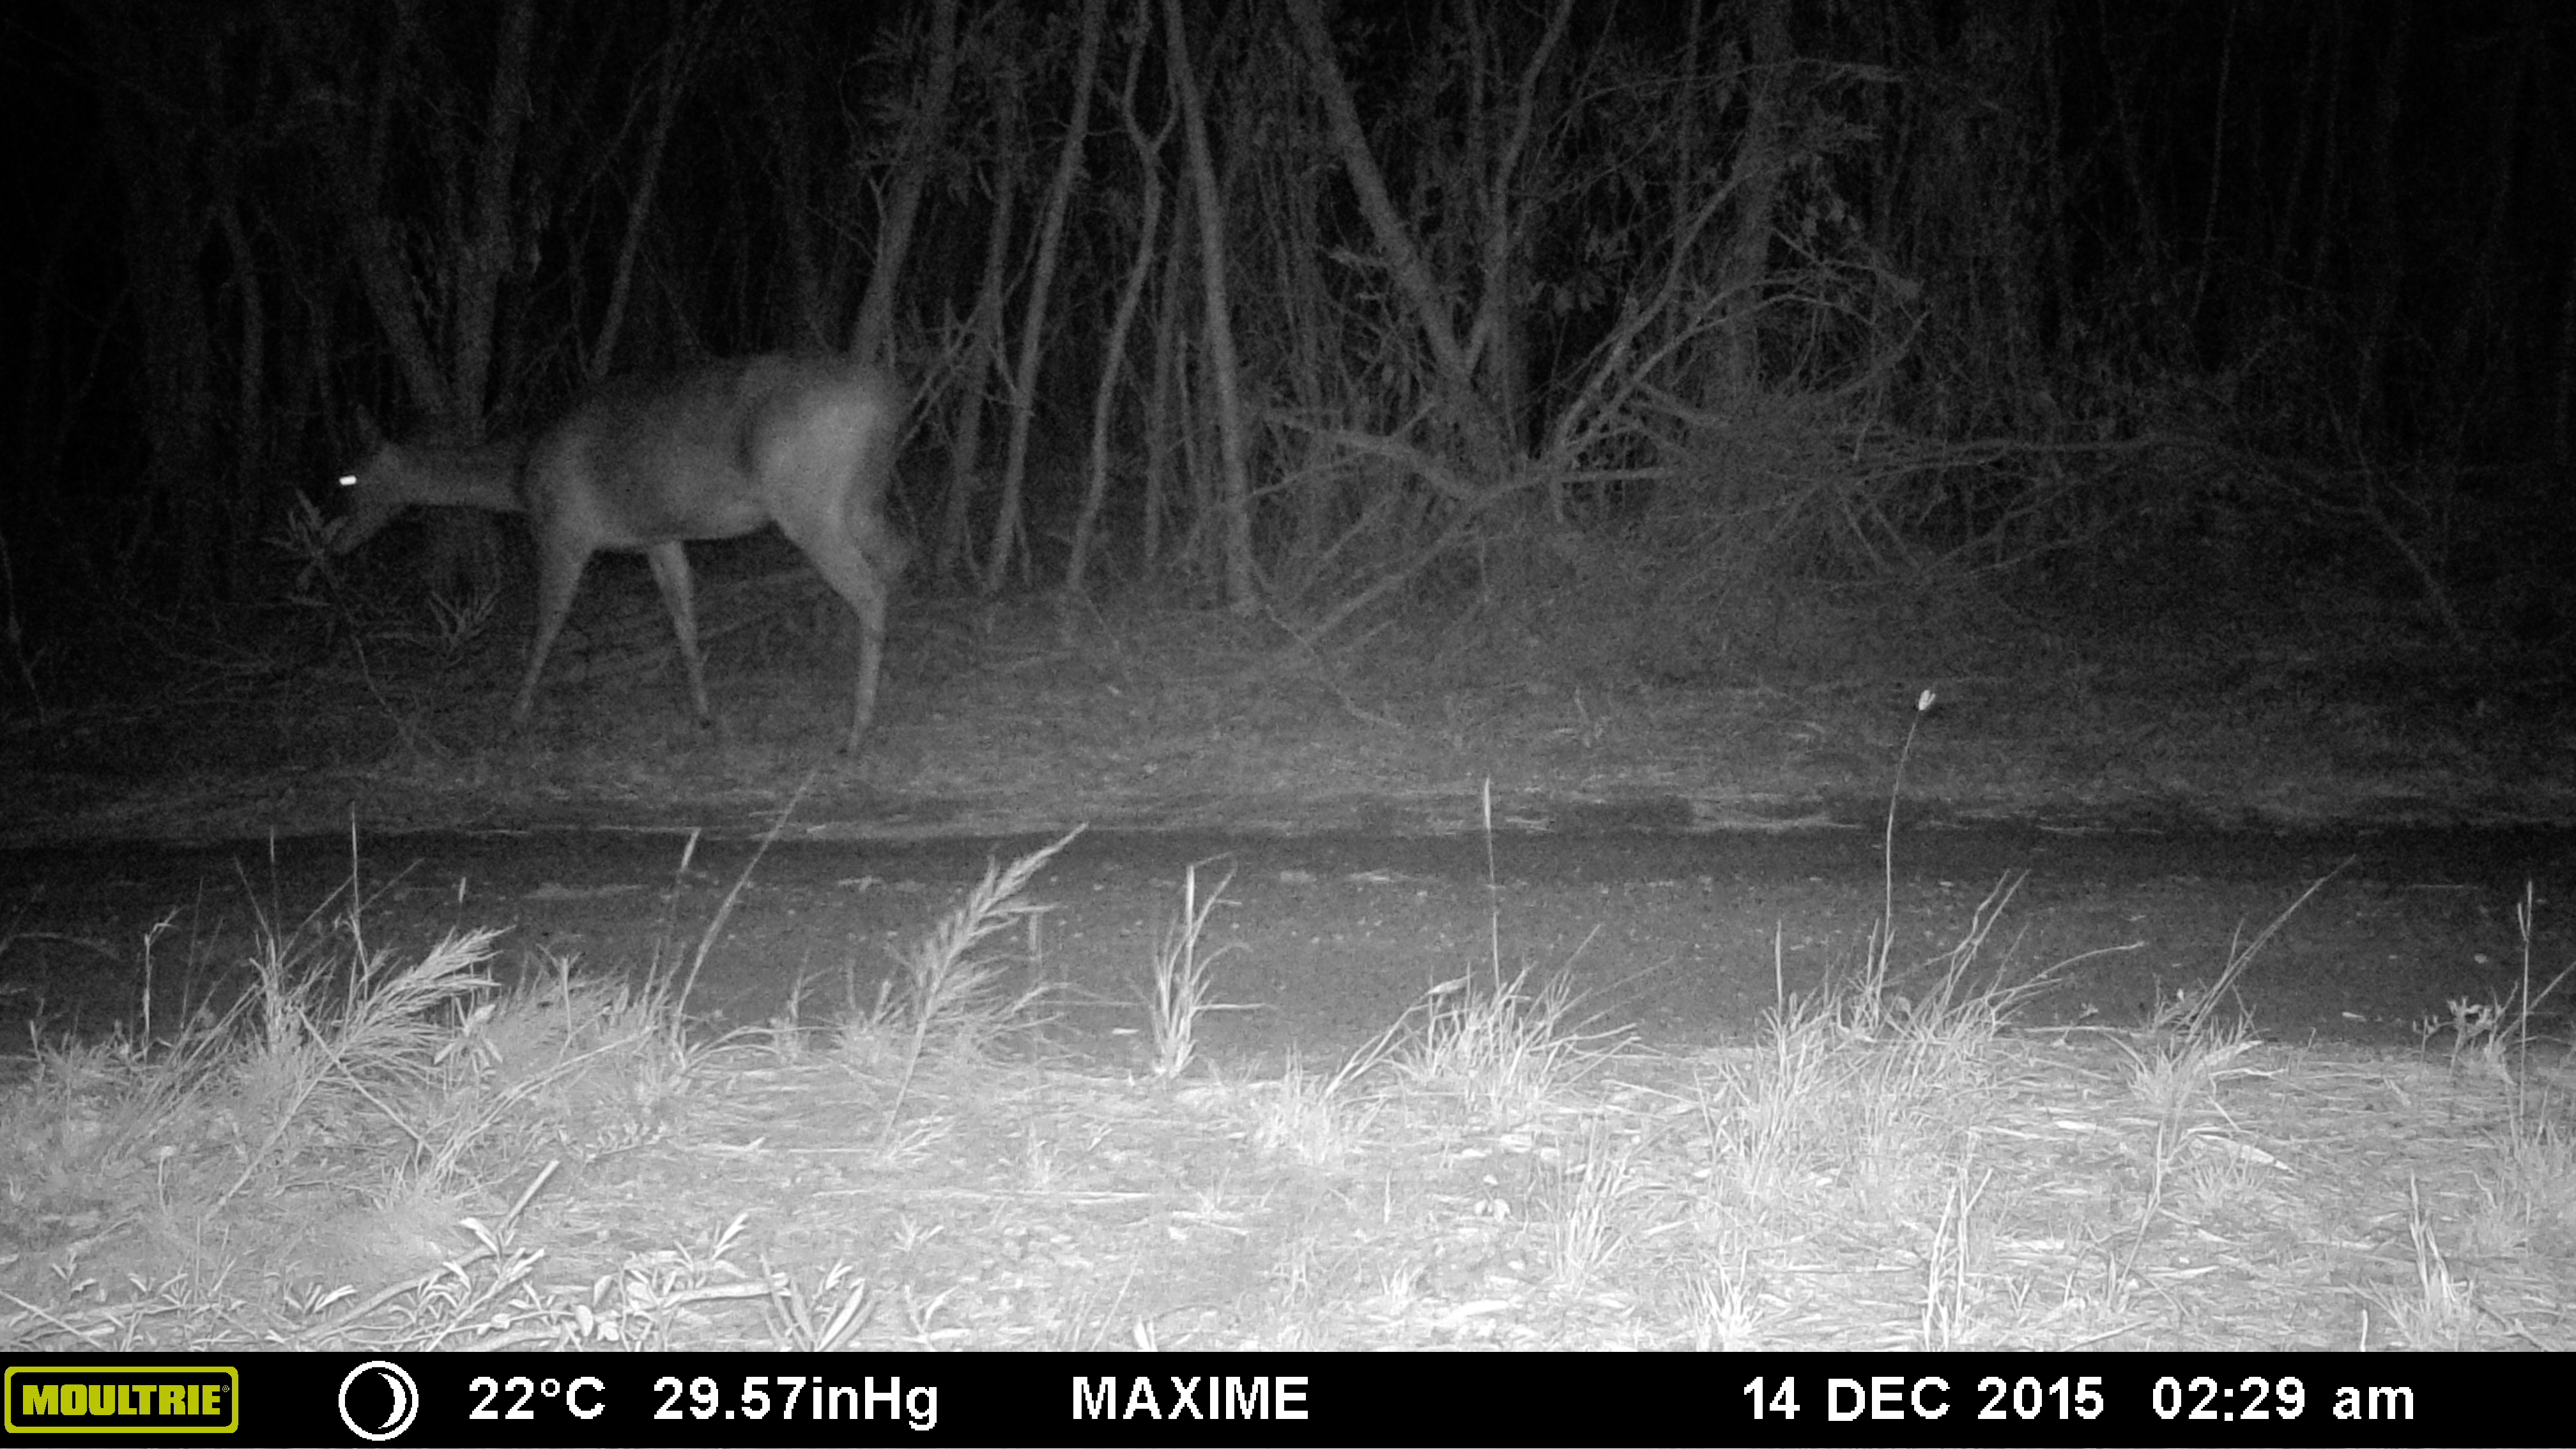Deer: (313, 336, 927, 780)
